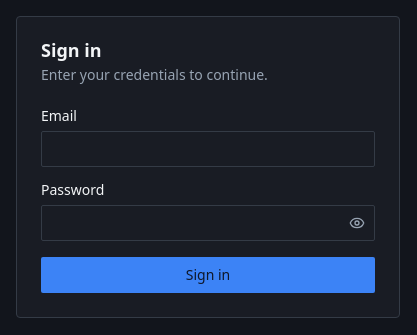
Test: LoginPage › unmasks and re-masks the password with the eye toggle
Type "s3cret" into the password field labelled "Password" at (208, 223), box [41,205,375,241]
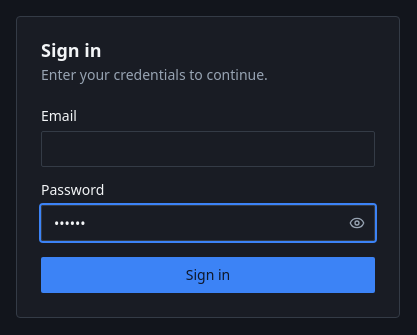
Click the button named "Show password" at (357, 223), box [339,205,375,241]
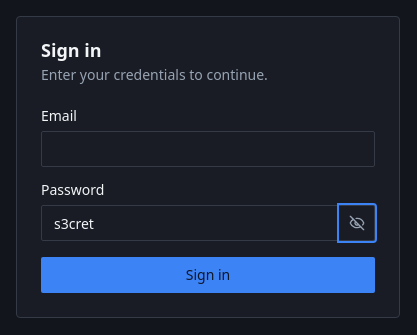
Check: the field labelled "Password" shows its text, box [41,205,375,241]
Click the button named "Hide password" at (357, 223), box [339,205,375,241]
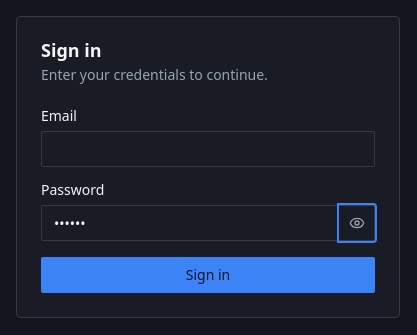
Check: the password field labelled "Password" hides its text, box [41,205,375,241]
